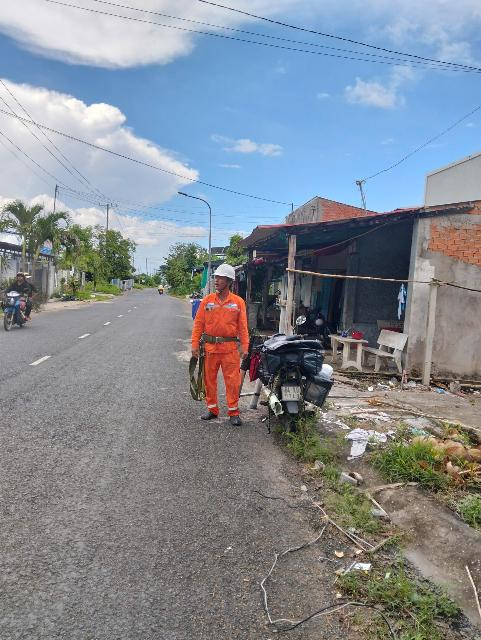harness: (202, 332, 237, 358)
helmet: (210, 258, 247, 284)
shoes: (226, 403, 251, 428), (195, 404, 222, 421)
